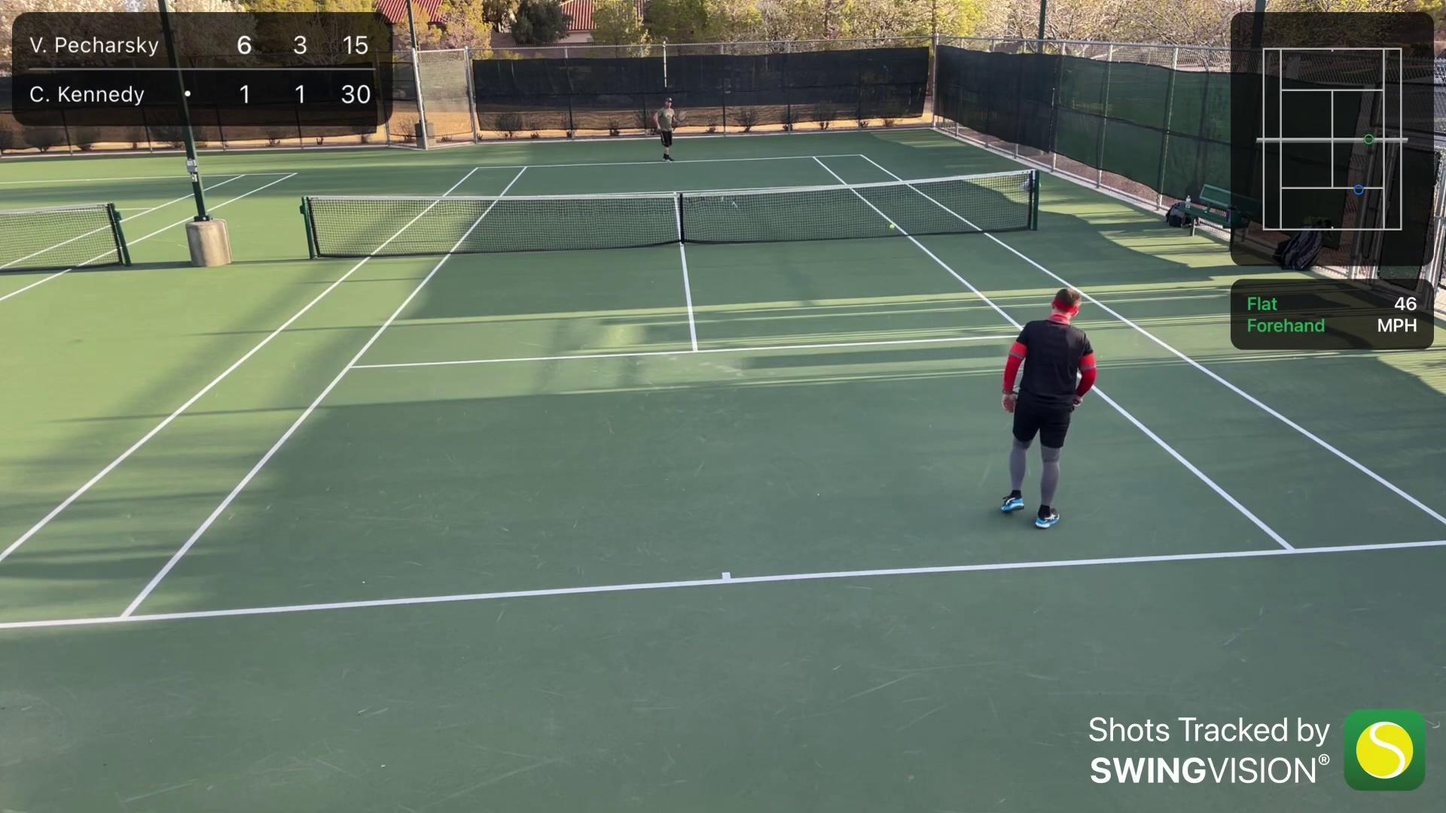ball: (887, 222, 895, 231)
